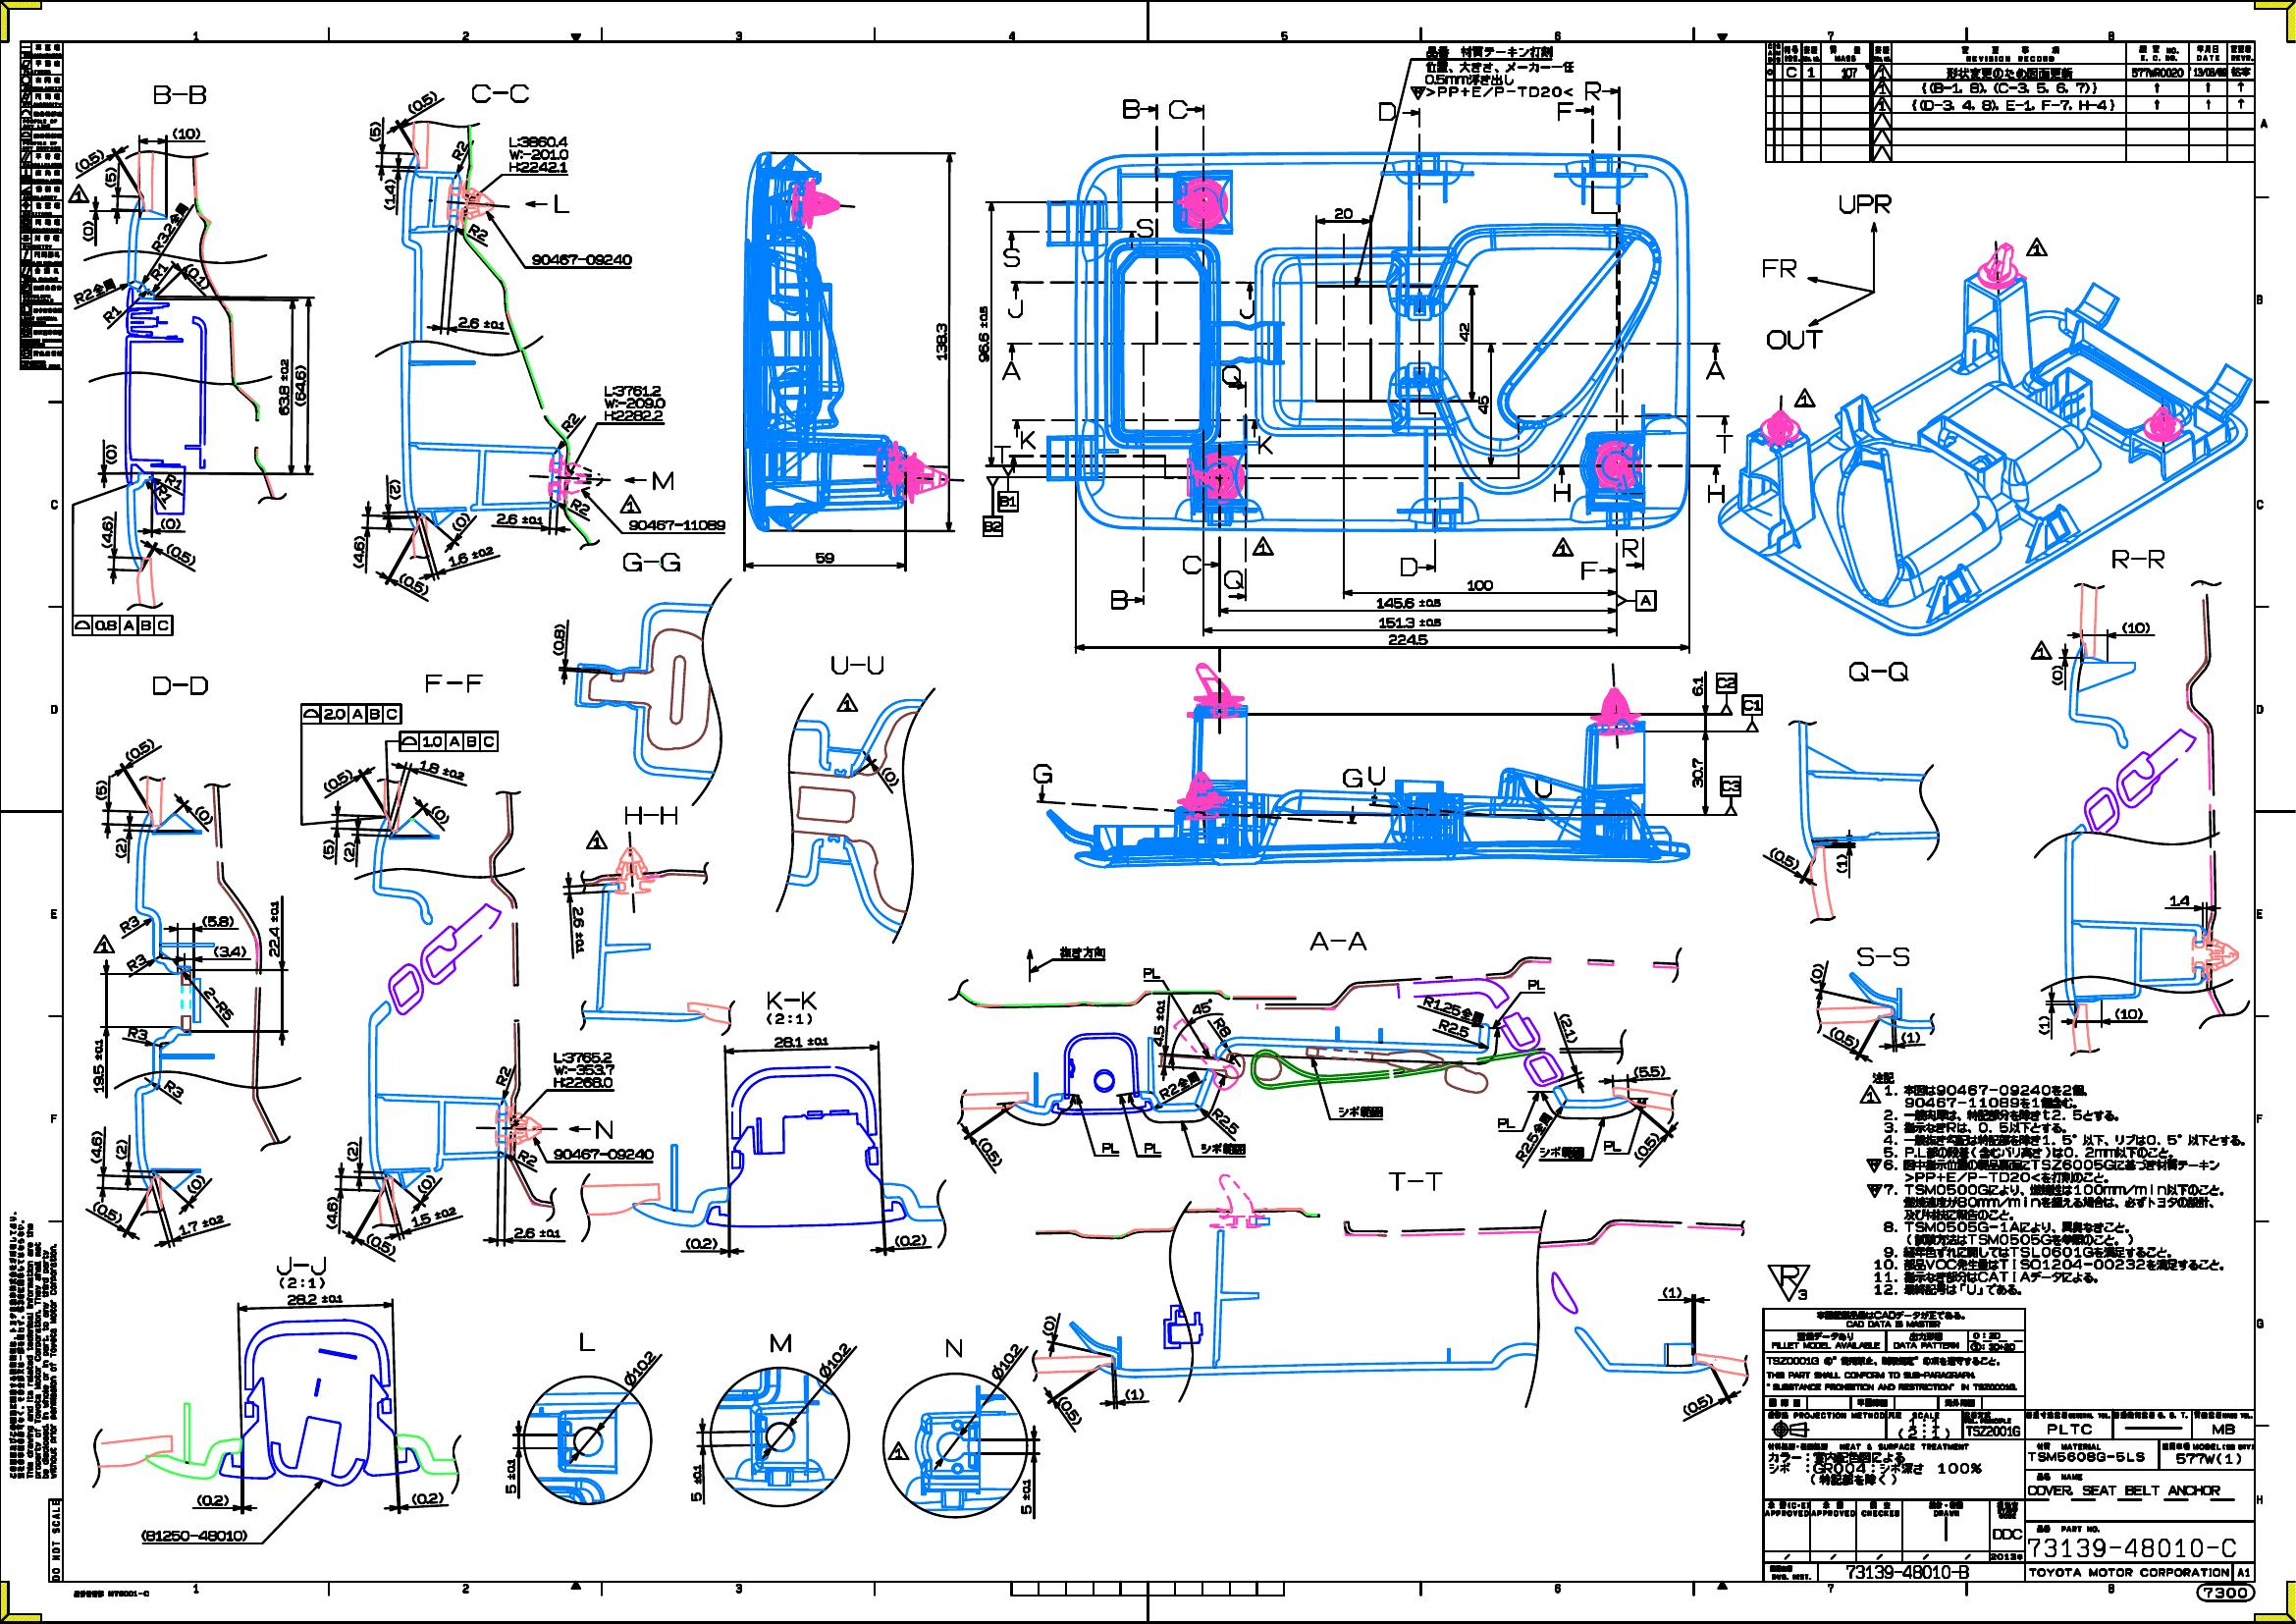anntotation_text: (1859, 1070, 2247, 1295), (7, 1209, 58, 1478), (1425, 44, 1574, 74), (1409, 86, 1572, 100), (300, 703, 401, 724), (72, 615, 172, 634), (399, 731, 497, 750), (766, 990, 817, 1026), (1765, 1262, 1811, 1302), (276, 1257, 327, 1290), (1846, 659, 1913, 682), (1309, 928, 1367, 953), (1855, 944, 1913, 967), (141, 1529, 248, 1541), (2110, 547, 2166, 569), (531, 253, 632, 265), (553, 1148, 653, 1160), (471, 83, 529, 104), (1839, 192, 1892, 214), (1388, 1171, 1444, 1192), (153, 675, 207, 696), (1765, 329, 1823, 348), (622, 552, 680, 571), (425, 673, 483, 692), (624, 805, 678, 824), (831, 654, 884, 673), (153, 84, 206, 104), (629, 520, 726, 531), (1525, 1106, 1541, 1165), (1421, 1002, 1484, 1016), (1760, 257, 1797, 279), (72, 1589, 151, 1598), (141, 221, 199, 232), (1200, 1142, 1247, 1155), (1539, 1146, 1585, 1158), (1339, 1106, 1383, 1118), (72, 285, 116, 297), (1158, 1079, 1200, 1091), (2024, 236, 2048, 257), (1794, 387, 1816, 408), (769, 1332, 792, 1353), (1059, 947, 1105, 958), (585, 828, 608, 849), (67, 183, 90, 204), (618, 492, 641, 513), (1251, 534, 1274, 555), (1551, 536, 1574, 557), (887, 1441, 912, 1461), (650, 471, 675, 490), (1033, 763, 1054, 784), (2029, 640, 2052, 659), (199, 998, 239, 1009), (1342, 768, 1363, 787), (1722, 775, 1741, 796), (93, 933, 114, 953), (836, 692, 857, 712), (982, 517, 1003, 536), (1001, 360, 1021, 381), (1168, 98, 1188, 120), (1223, 569, 1244, 589), (1221, 364, 1242, 383), (1704, 360, 1725, 380), (1583, 79, 1600, 102), (1209, 1114, 1240, 1127), (1716, 673, 1736, 692), (998, 490, 1017, 510), (1182, 555, 1202, 575), (1551, 483, 1570, 503), (1635, 591, 1655, 610), (1715, 434, 1734, 453), (1534, 777, 1551, 798), (945, 1338, 963, 1359), (1007, 299, 1024, 320), (1003, 248, 1021, 269), (1123, 98, 1140, 120), (1110, 589, 1128, 610), (1581, 559, 1599, 580), (1367, 765, 1384, 786), (553, 192, 569, 214), (1743, 696, 1762, 714), (596, 1120, 613, 1139), (1137, 218, 1154, 237), (1379, 102, 1397, 121), (1556, 102, 1574, 121), (1621, 538, 1639, 557), (1708, 483, 1725, 503), (1439, 1023, 1470, 1033), (1258, 434, 1274, 455), (1400, 557, 1418, 575), (580, 1332, 596, 1352), (1021, 431, 1036, 450), (1238, 299, 1254, 318), (560, 415, 580, 429), (516, 1151, 538, 1164), (163, 1083, 184, 1095), (119, 917, 141, 930), (569, 501, 590, 513), (467, 225, 488, 237), (453, 139, 466, 160), (1217, 1016, 1228, 1039), (1527, 979, 1546, 991), (1142, 967, 1161, 979), (128, 1026, 148, 1039), (102, 308, 121, 320), (149, 265, 169, 278), (497, 1065, 508, 1086), (165, 475, 183, 487), (155, 487, 172, 499), (1497, 1118, 1516, 1128), (126, 956, 146, 967), (1604, 1141, 1621, 1151), (1144, 1142, 1161, 1153), (1101, 1142, 1119, 1153)
dimension_text: (603, 383, 666, 422), (508, 135, 569, 172), (553, 1051, 615, 1088), (1425, 74, 1514, 84), (1379, 617, 1440, 629), (278, 357, 290, 415), (773, 1035, 829, 1048), (1375, 598, 1440, 608), (631, 1346, 646, 1388), (998, 1338, 1012, 1383), (826, 1338, 840, 1381), (978, 304, 989, 362), (269, 900, 279, 958), (495, 511, 545, 524), (446, 550, 495, 562), (457, 316, 506, 329), (93, 1037, 104, 1093), (286, 1294, 343, 1304), (409, 1209, 457, 1222), (573, 907, 585, 953), (177, 1216, 223, 1229), (1154, 998, 1165, 1048), (418, 765, 466, 775), (513, 1227, 560, 1237), (1388, 633, 1428, 645), (397, 576, 430, 591), (1767, 851, 1801, 865), (213, 944, 246, 958), (90, 1130, 104, 1164), (1063, 1394, 1077, 1427), (690, 1464, 703, 1501), (295, 364, 306, 406), (365, 1237, 397, 1251), (163, 548, 199, 561), (504, 1459, 516, 1494), (72, 155, 105, 167), (100, 515, 112, 548), (406, 95, 439, 107), (1827, 1032, 1860, 1044), (123, 743, 156, 756), (325, 1195, 337, 1229), (984, 1135, 996, 1169), (1639, 1128, 1651, 1162), (1681, 1399, 1715, 1411), (411, 1492, 444, 1504), (936, 322, 947, 360), (383, 179, 395, 211), (202, 914, 234, 926), (91, 1206, 123, 1218), (685, 1237, 717, 1250), (894, 1234, 926, 1246), (1562, 1012, 1574, 1044), (1634, 1065, 1665, 1077), (197, 1494, 228, 1506), (1021, 1478, 1031, 1513), (353, 534, 364, 568), (553, 622, 564, 656), (172, 127, 200, 139), (2115, 1007, 2143, 1019), (1191, 1000, 1216, 1014), (181, 271, 213, 281), (1692, 758, 1702, 789), (321, 775, 353, 786), (81, 220, 95, 241), (450, 515, 471, 529), (388, 478, 402, 499), (2050, 664, 2064, 685), (2122, 622, 2150, 633), (1809, 963, 1823, 984), (321, 838, 336, 859), (114, 1139, 128, 1160), (2168, 895, 2191, 907), (1690, 675, 1702, 698), (884, 765, 896, 787), (1467, 580, 1493, 591), (1476, 395, 1490, 415), (104, 165, 116, 186), (160, 517, 181, 529), (369, 121, 381, 142), (1836, 852, 1848, 874), (193, 808, 214, 821), (95, 779, 107, 800), (114, 837, 126, 858), (186, 1178, 207, 1190), (346, 1141, 358, 1162), (420, 1172, 432, 1193), (1042, 1315, 1054, 1336), (815, 552, 834, 564), (1458, 322, 1470, 341), (1333, 207, 1353, 220), (2038, 1016, 2050, 1035), (343, 842, 355, 861), (1662, 1287, 1681, 1299), (1124, 1388, 1144, 1401), (429, 808, 450, 819), (105, 445, 116, 464), (1901, 1032, 1920, 1042)
object: (1045, 151, 1693, 531), (1716, 239, 2252, 638), (1033, 1172, 1748, 1378), (1045, 663, 1692, 868), (957, 954, 1679, 1127), (2031, 580, 2245, 1053), (401, 120, 611, 557), (367, 777, 557, 1225), (741, 149, 963, 533), (123, 149, 274, 606), (135, 775, 279, 1213), (97, 1318, 460, 1487), (581, 1065, 945, 1227), (785, 698, 926, 933), (581, 830, 733, 1025), (1797, 719, 1939, 919), (573, 601, 713, 780), (882, 1373, 1029, 1519), (708, 1367, 850, 1508), (522, 1374, 652, 1504), (1815, 972, 1934, 1028)
title_block: (1760, 1308, 2254, 1582), (1765, 40, 2254, 162), (19, 40, 63, 371)
